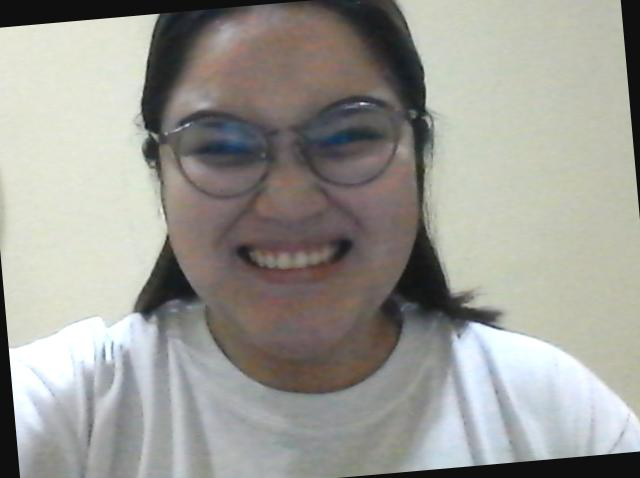senang: (146, 0, 436, 350)
